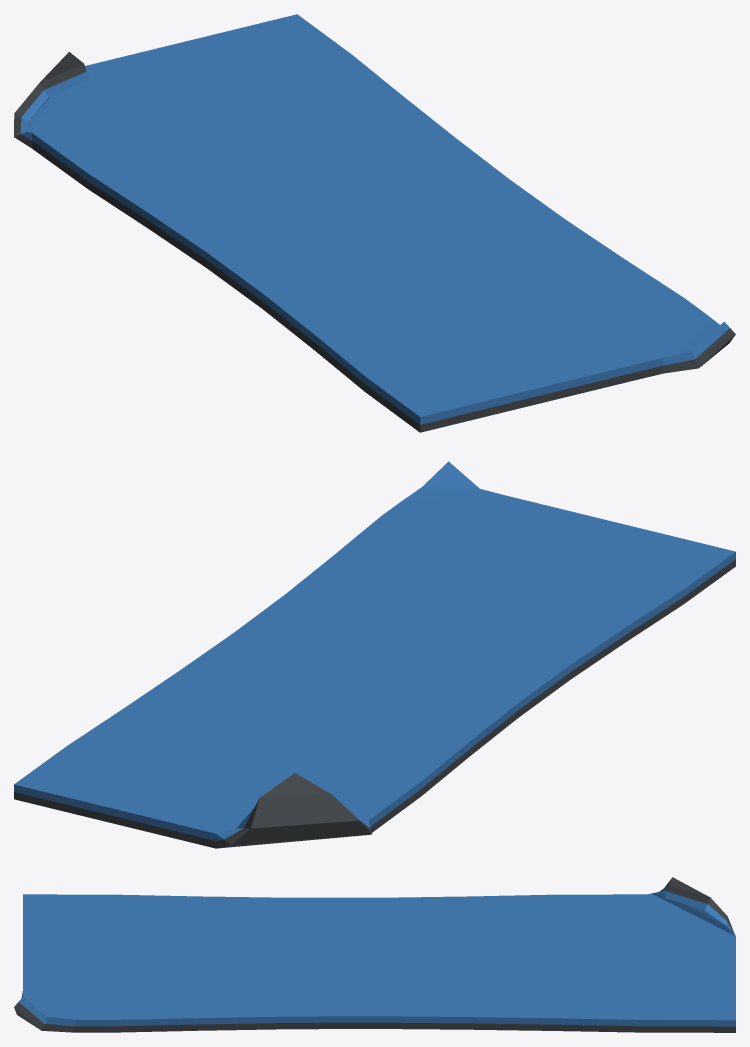
The model's file is SM_Prop_Gym_Yoga_Mat_02.obj.
The picture shows the model from 3 angles, top to bottom: view 1: azimuth 30°, elevation 25°; view 2: azimuth 150°, elevation 25°; view 3: azimuth 270°, elevation 25°; orthographic projection. The views are drawn at different scales.
Parts seen in each view (by area): view 1: SM_Prop_Gym_Yoga_Mat_02_0; view 2: SM_Prop_Gym_Yoga_Mat_02_0; view 3: SM_Prop_Gym_Yoga_Mat_02_0.
Boxes of the visible parts, x1,y1,x2,y2 form: SM_Prop_Gym_Yoga_Mat_02_0: [14, 14, 735, 432]; SM_Prop_Gym_Yoga_Mat_02_0: [14, 461, 735, 848]; SM_Prop_Gym_Yoga_Mat_02_0: [14, 877, 735, 1032].
Bounding box in the file's own units: 1.03 × 0.1772 × 2.43.
Materials: 1 (1 with a texture image).
